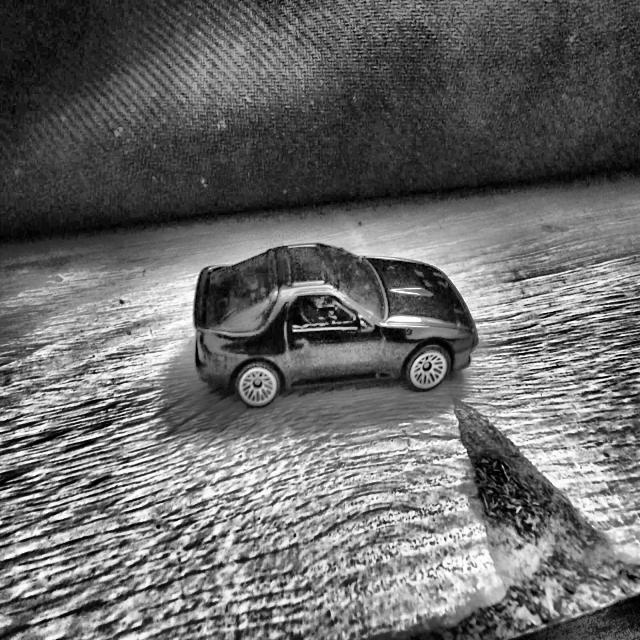car: (193, 241, 478, 408)
